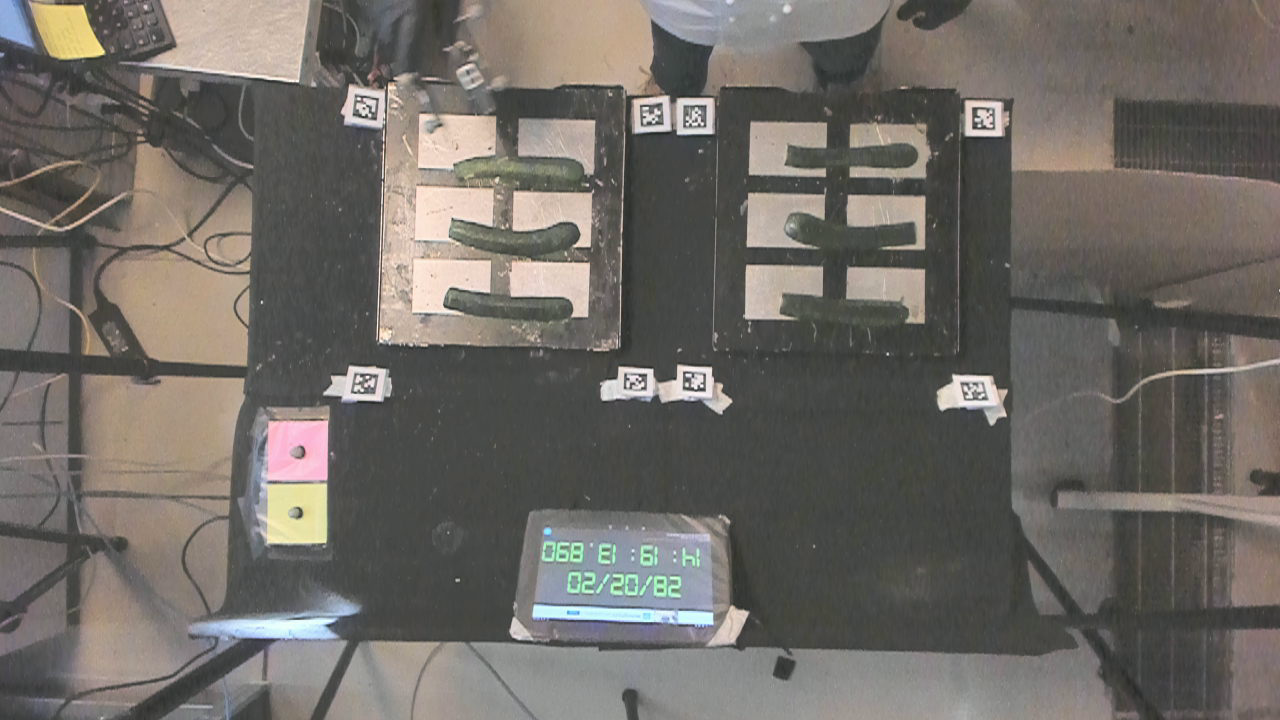marker: (265, 419, 330, 480)
zucchini: (442, 213, 585, 261), (776, 207, 922, 247), (778, 288, 910, 332), (439, 277, 559, 322), (443, 152, 588, 181), (782, 140, 920, 170)
